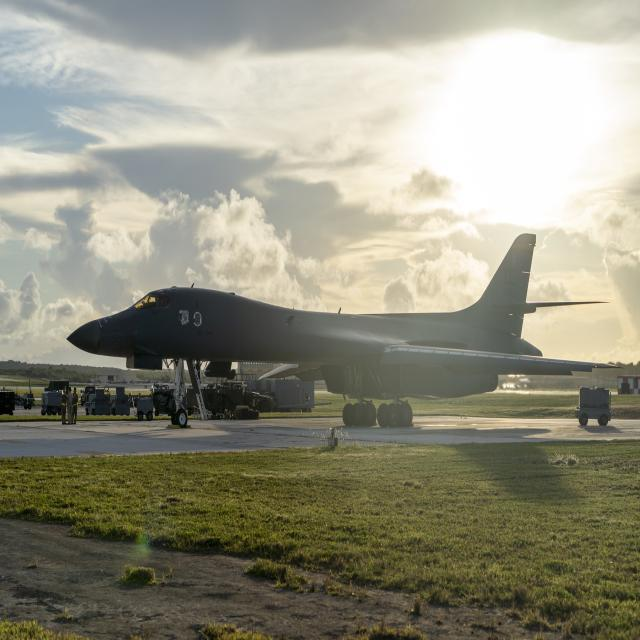MIL_Plane: (65, 232, 626, 429)
